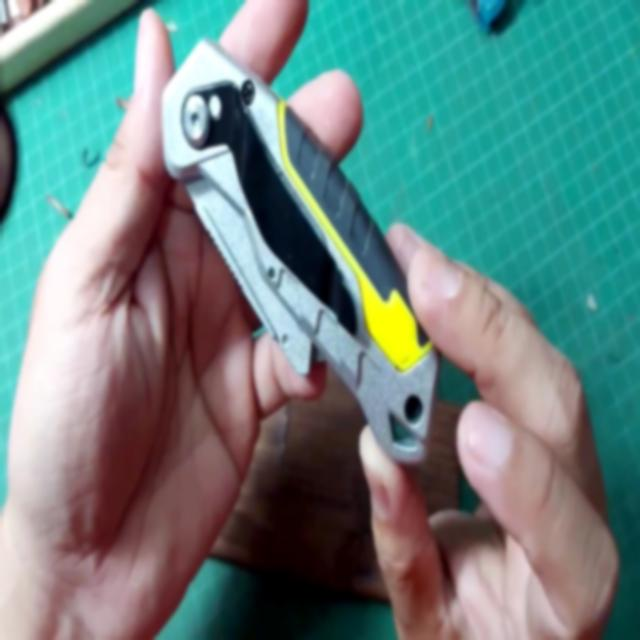cutter: (0, 0, 638, 640)
